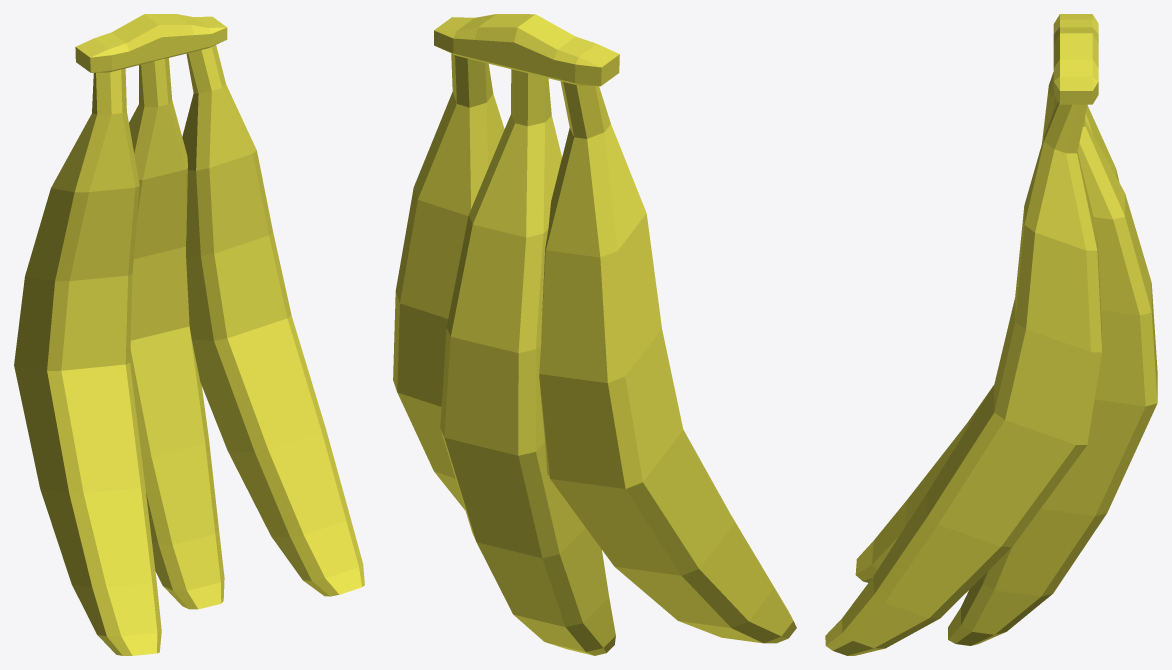
The model's file is Banana.fbx.
3 renders of one model, left to right at view 1: azimuth 30°, elevation 25°; view 2: azimuth 150°, elevation 25°; view 3: azimuth 270°, elevation 25°, orthographic. The views are drawn at different scales.
Parts seen in each view (by area): view 1: Cube.001, Cube.002, Cube, Cube.003; view 2: Cube.001, Cube, Cube.002, Cube.003; view 3: Cube.002, Cube, Cube.003, Cube.001.
Part boxes in pixels (x1,y1,x2,y2): Cube.001: (14,68,161,655); Cube.002: (182,45,364,596); Cube: (129,58,224,609); Cube.003: (75,14,227,72); Cube.001: (539,81,796,643); Cube: (440,69,615,655); Cube.002: (393,53,504,510); Cube.003: (434,14,619,86); Cube.002: (825,102,1102,655); Cube: (948,95,1157,645); Cube.003: (1053,14,1098,104); Cube.001: (855,72,1119,582).
Bounding box in the file's own units: 372 × 798 × 398.
